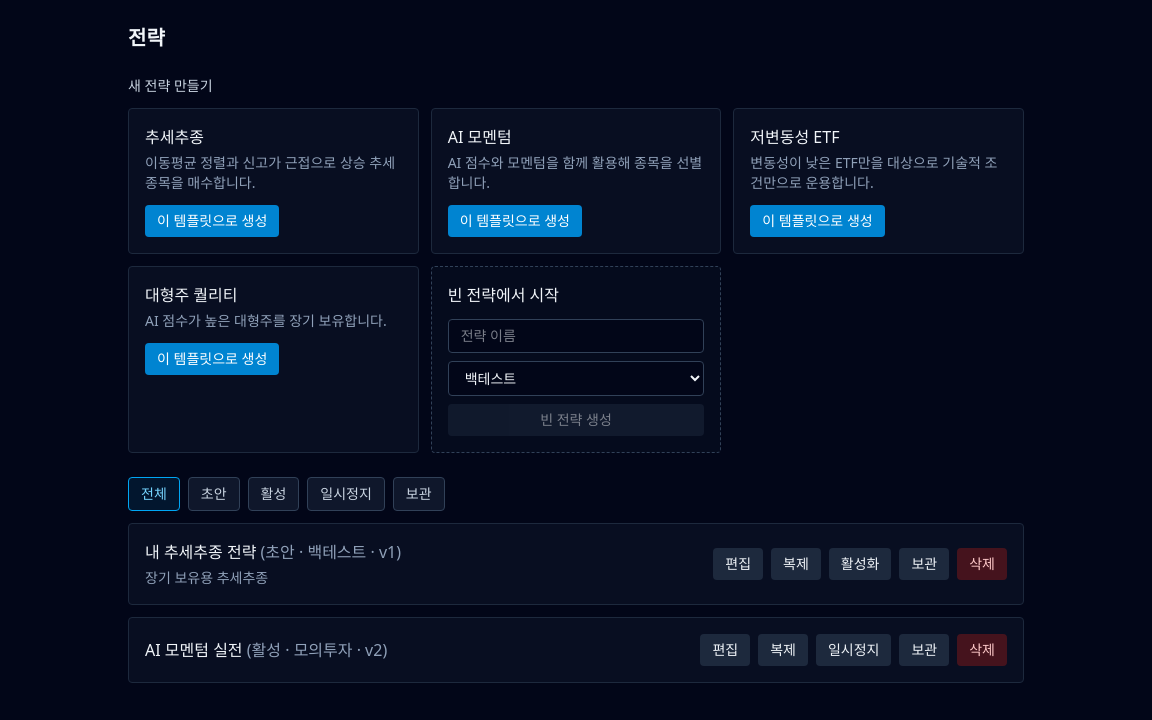
it: StrategyListPage › pauses an active strategy and reflects the status change immediately
What coordinates should you click on to do the following:
click the button "일시정지" in the row of "AI 모멘텀 실전"
I would click on:
 (854, 650)
Its box is [816,634,891,666].
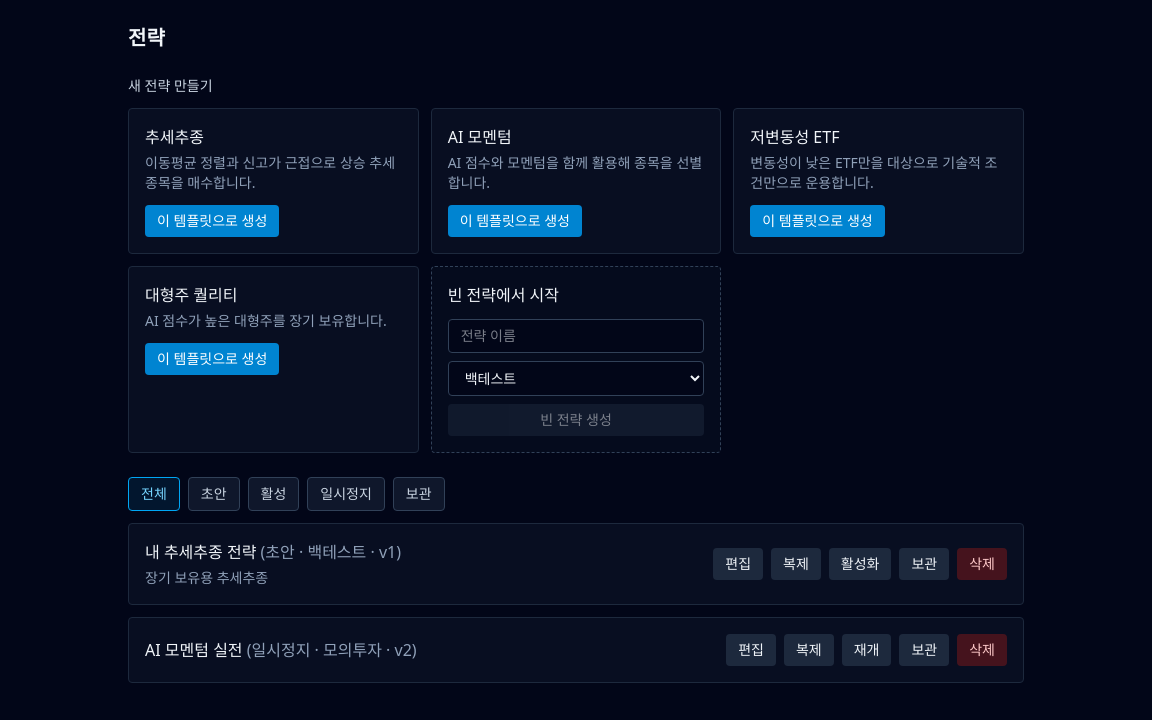
Result: the text "(일시정지 · 모의투자 · v2)" is shown at [247,639,417,661]
